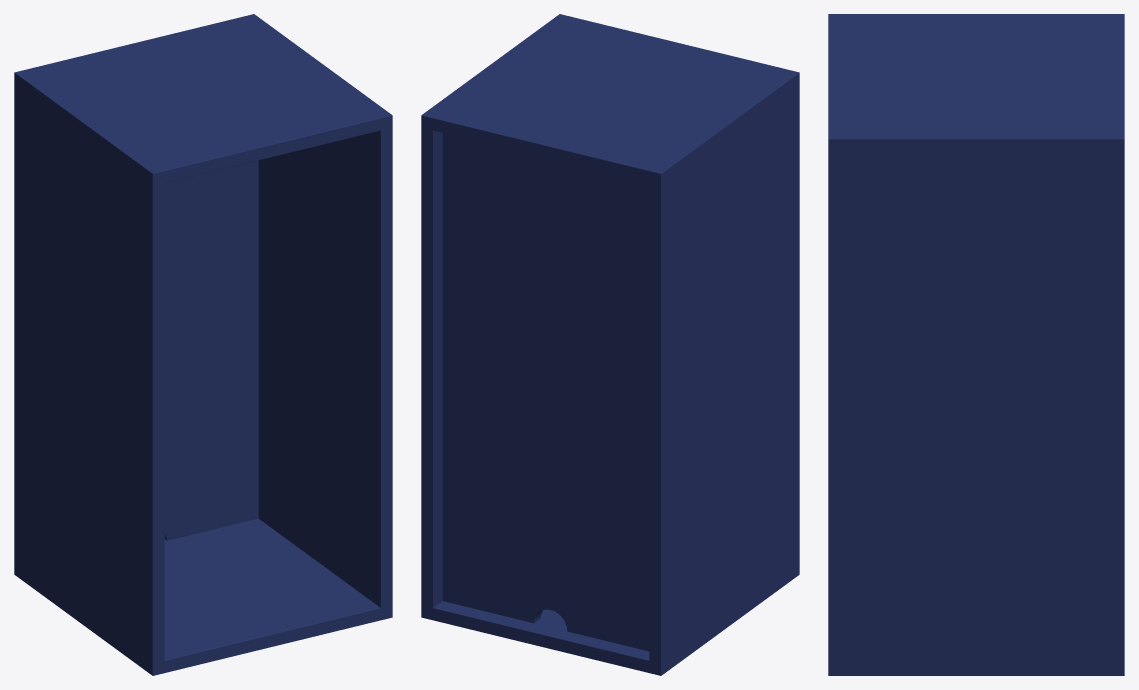
Rendered from MOD_1X2_A_B_AP_AF.glb.
3 views of the same model, side by side, from view 1: azimuth 30°, elevation 25°; view 2: azimuth 150°, elevation 25°; view 3: azimuth 270°, elevation 25° (orthographic). The views are drawn at different scales.
Size of the model in its own units: 360 by 720 by 360.
